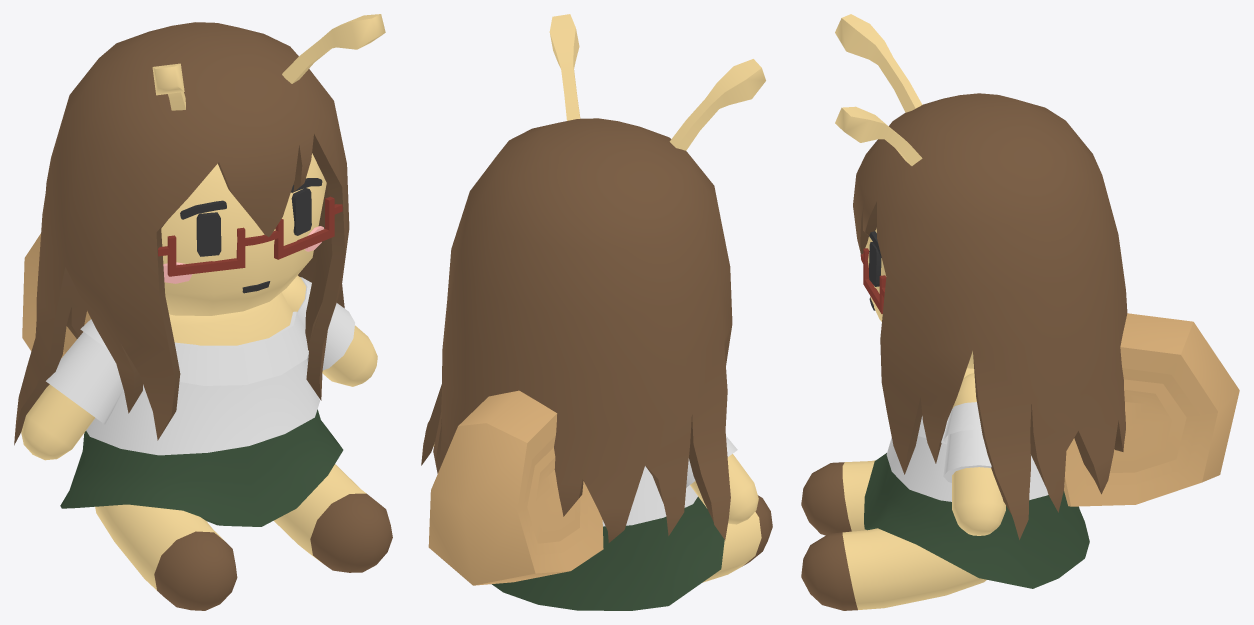
The model's file is plush.glb.
3 renders of one model, left to right at view 1: azimuth 30°, elevation 25°; view 2: azimuth 150°, elevation 25°; view 3: azimuth 270°, elevation 25°, orthographic. The views are drawn at different scales.
Visible parts, largest first — view 1: ashley.001; view 2: ashley.001; view 3: ashley.001.
Part boxes in pixels (x1,y1,x2,y2): ashley.001: [14, 14, 392, 610]; ashley.001: [421, 14, 772, 610]; ashley.001: [801, 14, 1239, 610].
Bounding box in the file's own units: 1.43 × 2.14 × 1.67.
1 material, 1 textured.
